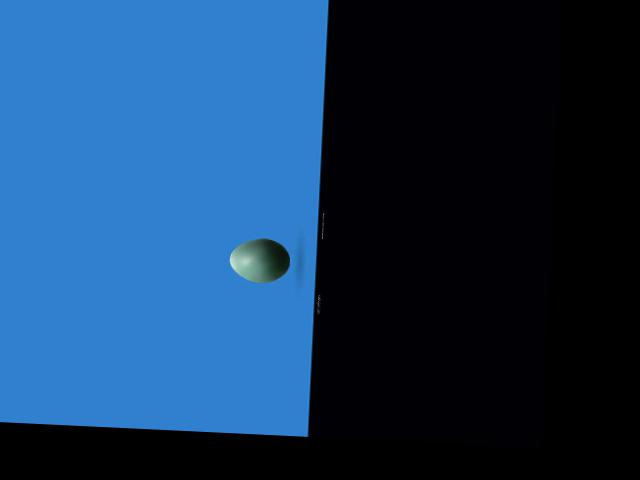egg: (228, 236, 290, 283)
